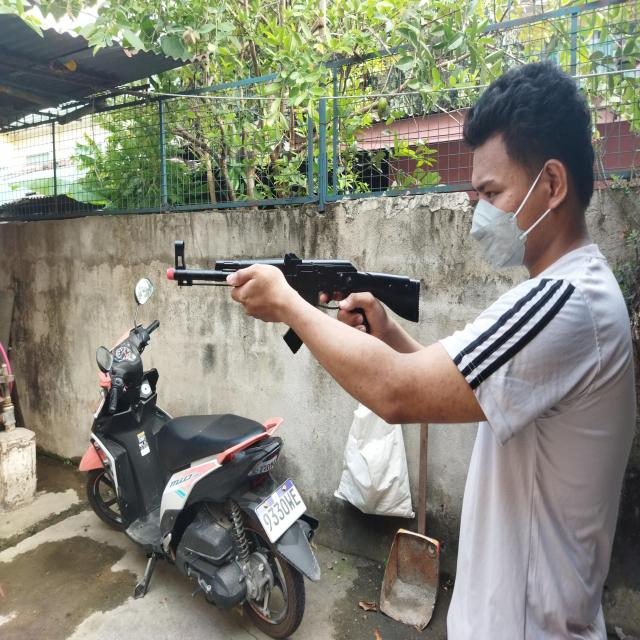rifle: (166, 241, 421, 355)
